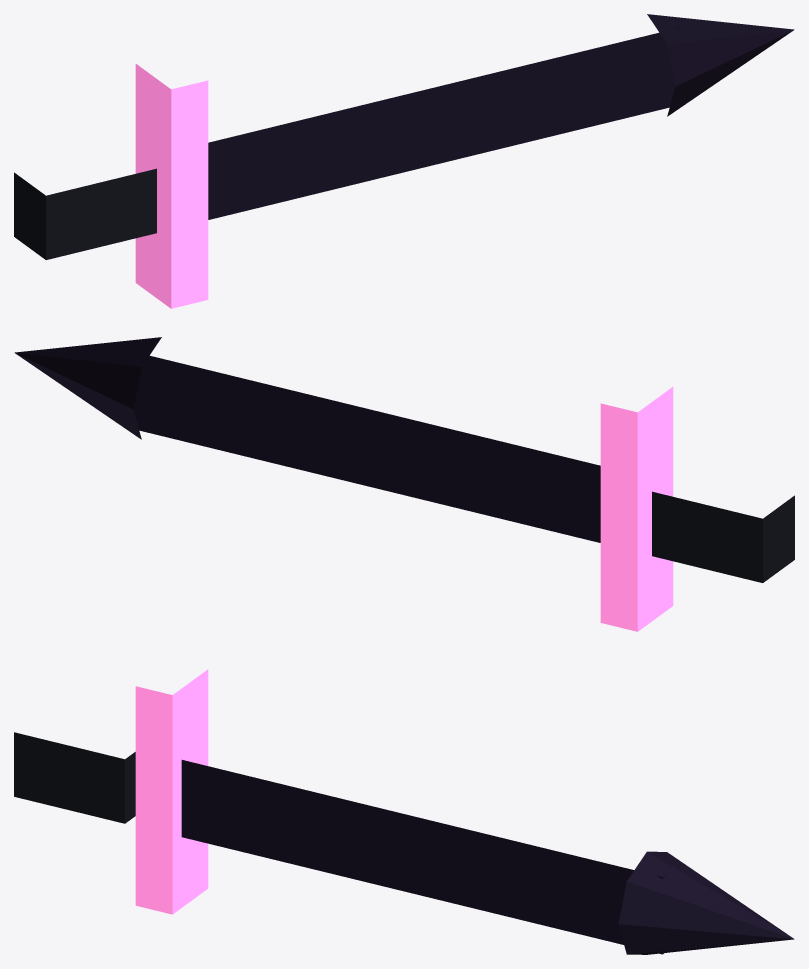
File: void-spirit.glb
3 renders of one model, top to bottom at view 1: azimuth 30°, elevation 25°; view 2: azimuth 150°, elevation 25°; view 3: azimuth 330°, elevation 25°, orthographic.
Parts seen in each view (by area): view 1: void-spirit-blade, void-spirit-guard, void-spirit-grip, void-spirit-tip; view 2: void-spirit-blade, void-spirit-guard, void-spirit-grip, void-spirit-tip; view 3: void-spirit-blade, void-spirit-guard, void-spirit-tip, void-spirit-grip.
Boxes of the visible parts, left/top/right/bottom form: void-spirit-blade: left=208, top=27, right=680, bottom=219; void-spirit-guard: left=135, top=64, right=208, bottom=308; void-spirit-grip: left=14, top=168, right=156, bottom=259; void-spirit-tip: left=647, top=14, right=794, bottom=116; void-spirit-blade: left=128, top=350, right=600, bottom=542; void-spirit-guard: left=600, top=387, right=673, bottom=631; void-spirit-grip: left=652, top=491, right=794, bottom=582; void-spirit-tip: left=14, top=337, right=161, bottom=439; void-spirit-blade: left=181, top=760, right=680, bottom=954; void-spirit-guard: left=135, top=669, right=208, bottom=914; void-spirit-tip: left=618, top=851, right=794, bottom=954; void-spirit-grip: left=14, top=732, right=135, bottom=823.
Bounding box in the file's own units: 1.24 × 0.34 × 0.16.
